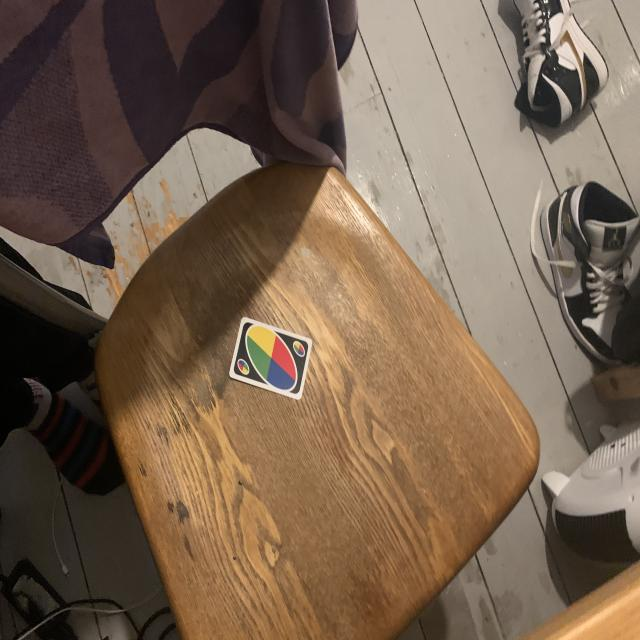lcolor-40: (235, 358, 251, 378)
